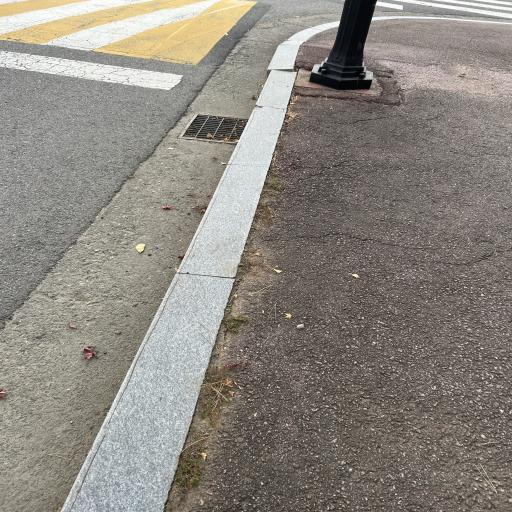drain: (179, 114, 248, 144)
